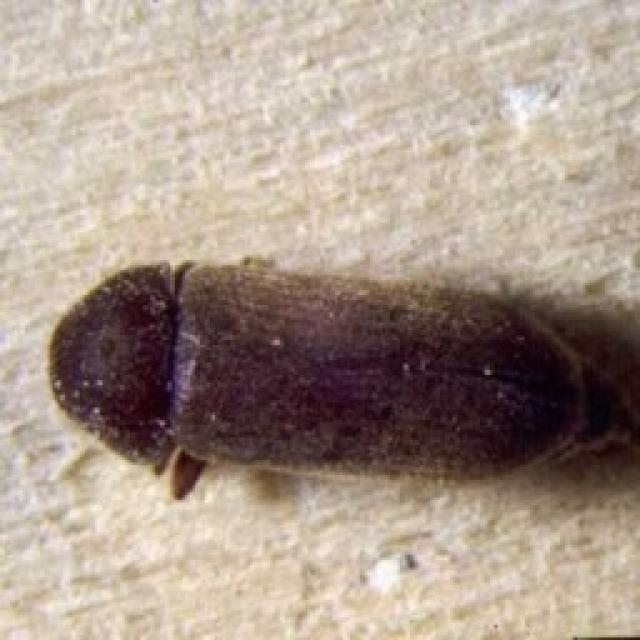cockroach: (44, 253, 637, 503)
